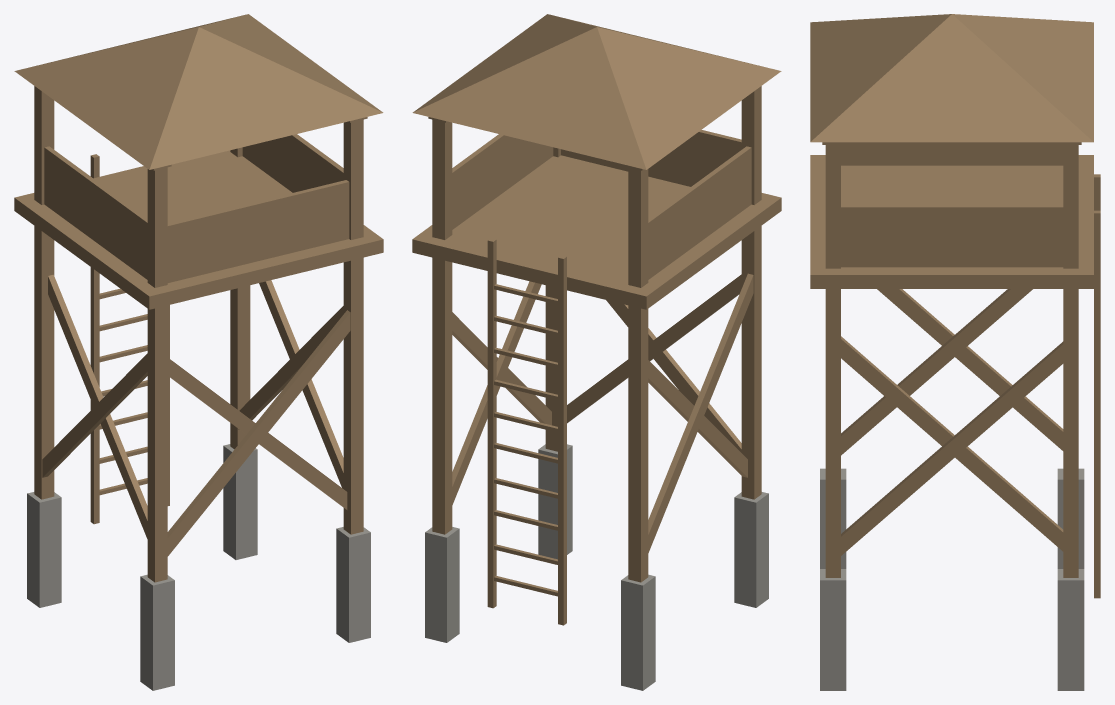
File: watchtower-01.glb
3 renders of one model, left to right at view 1: azimuth 30°, elevation 25°; view 2: azimuth 150°, elevation 25°; view 3: azimuth 270°, elevation 25°, orthographic. The views are drawn at different scales.
Parts seen in each view (by area): view 1: watchtower-01; view 2: watchtower-01; view 3: watchtower-01.
Part boxes in pixels (<box>): watchtower-01: <box>14,14,383,690</box>; watchtower-01: <box>412,14,781,690</box>; watchtower-01: <box>810,14,1100,690</box>.
Bounding box in the file's own units: 3.68 × 8.88 × 3.77.
